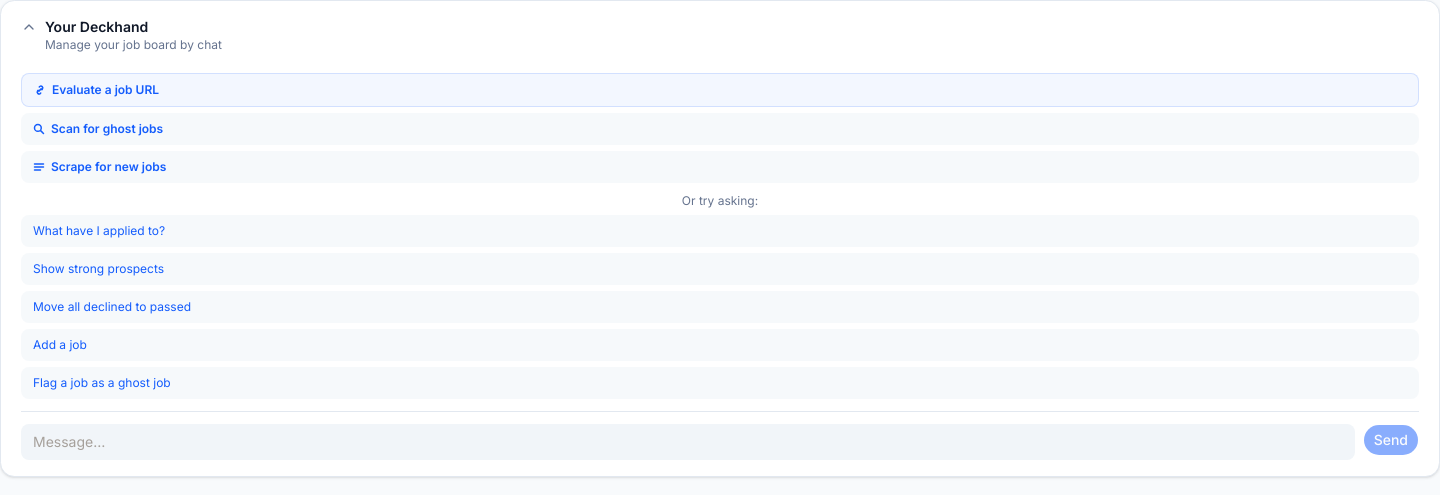
Scenario: ChatDrawer evaluation without detected company/role › keeps Add to pending enabled when company and role are both detected
Type "Evaluate this job URL: https://example.com/job" into the field with placeholder "Message…" at coordinates (688, 442), box [21,424,1355,460]
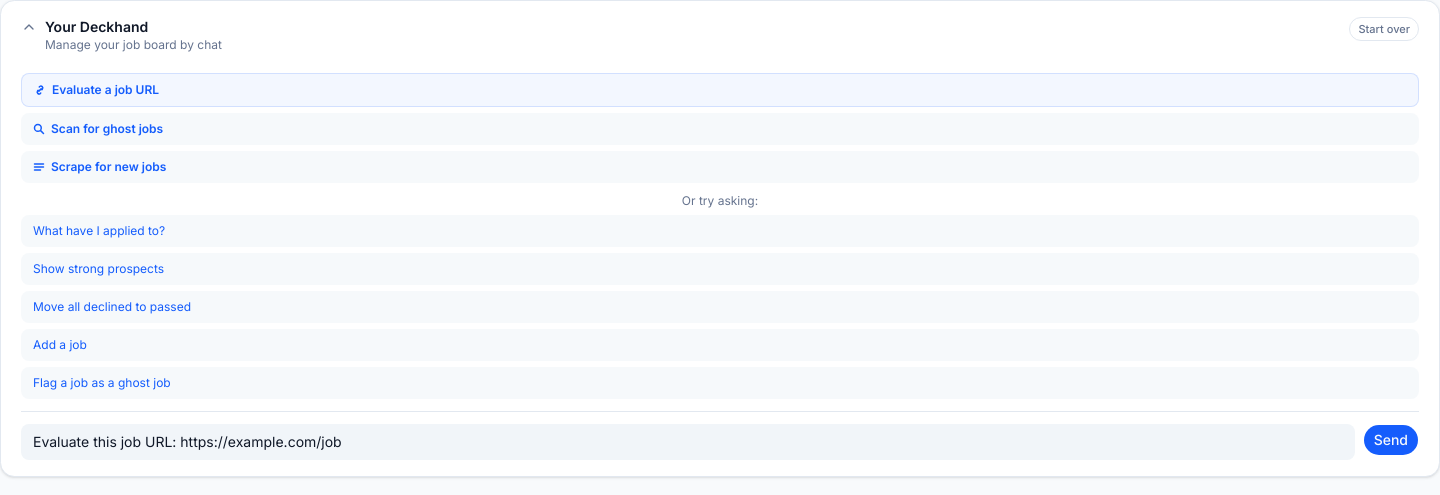
Click the button "Send" at coordinates (1391, 440), box [1363,424,1419,456]
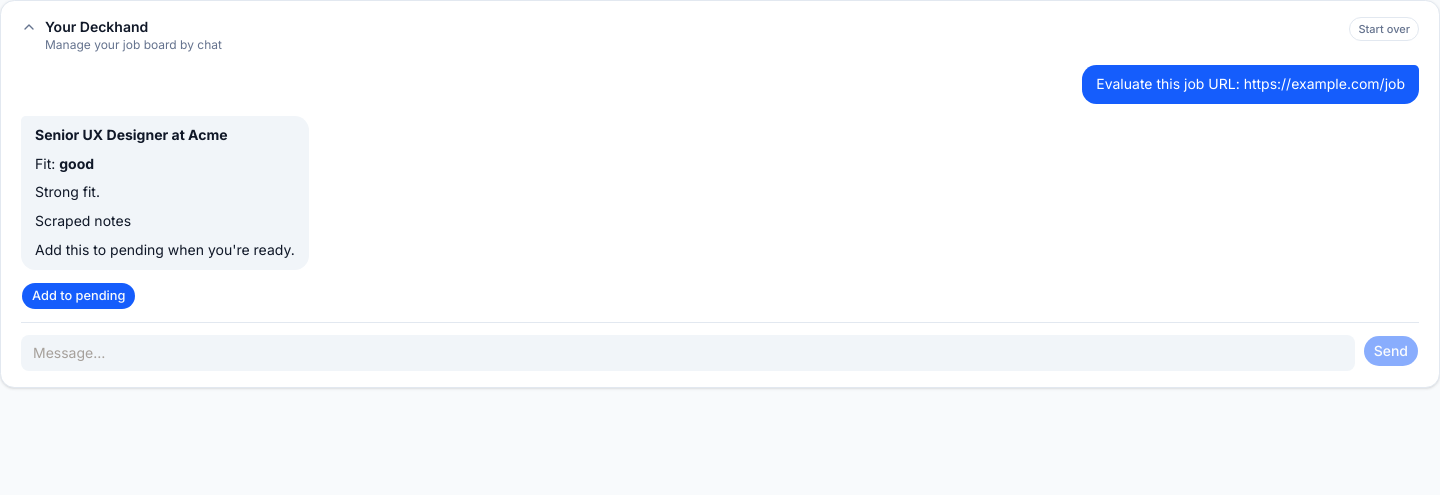
Expected: the button "Add to pending" is enabled, [21,282,136,310]
